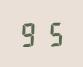five: (41, 20, 62, 46)
nine: (19, 20, 40, 47)
